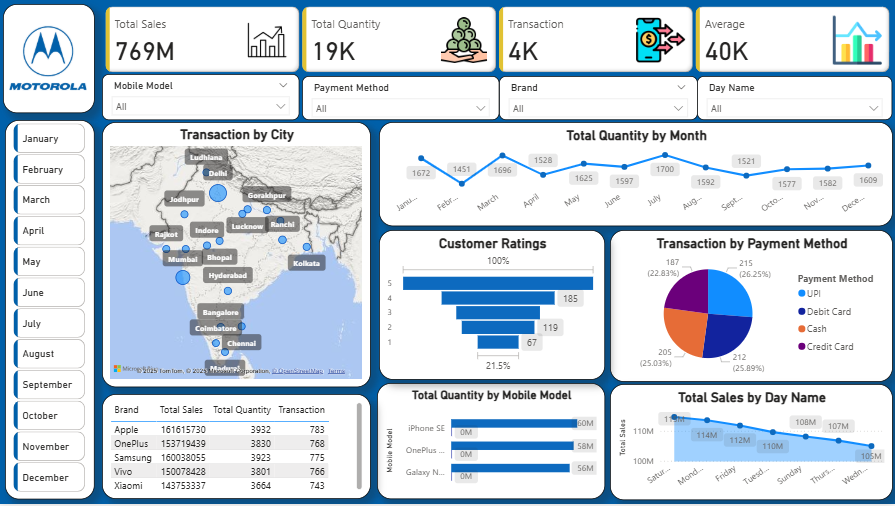

This screenshot's page, from the dashboard's own definition file:
{"tool":"powerbi","page":{"name":"Page 1","canvas":[1280,720],"ordinal":0},"visuals":[{"type":"shape","box":[5.5,5.5,130.8,155.5],"z":0},{"type":"image","box":[9.6,9.6,119.7,145.9],"z":1000},{"type":"shape","box":[8.3,172,128,542.3],"z":2000},{"type":"advancedSlicerVisual","fields":{"Values":["Day - 30 - Mobile Sales Data(Sh (2).Date.Variation.Date Hierarchy.Month"]},"box":[15.1,172,112.9,540.9],"z":3000},{"type":"cardVisual","fields":{"Data":["Sales Data.Total Sales","Sales Data.Total Quantity","Sales Data.Transaction","Sales Data.Average"]},"box":[147.3,4.1,1132.7,104.6],"z":4000},{"type":"map","fields":{"Category":["Sales Data.City"],"Size":["Sales Data.Transaction"]},"box":[147.1,174.3,384.3,378.6],"z":5000},{"type":"lineChart","fields":{"Category":["Sales Data.Date.Variation.Date Hierarchy.Month","Sales Data.Date.Variation.Date Hierarchy.Day"],"Y":["Sales Data.Total Quantity"]},"box":[542.9,174.3,734.3,148.6],"z":6000},{"type":"clusteredBarChart","title":"Total Quantity by Mobile Model","fields":{"Category":["Sales Data.Mobile Model"],"Y":["Sales Data.Total Sales","Sales Data.Total Quantity"]},"box":[540,547.1,325.7,165.7],"z":7000},{"type":"pieChart","fields":{"Category":["Sales Data.Payment Method"],"Y":["Sales Data.Transaction"]},"box":[872.9,328.6,404.3,217.1],"z":8000},{"type":"funnel","title":"Customer Ratings","fields":{"Category":["Sales Data.Customer Ratings"],"Y":["CountNonNull(Sales Data.Customer Ratings)"]},"box":[542.9,328.6,322.9,214.3],"z":9000},{"type":"areaChart","fields":{"Y":["Sales Data.Total Sales"],"Category":["Sales Data.Day Name"]},"box":[872.9,548.6,404.3,165.7],"z":10000},{"type":"tableEx","fields":{"Values":["Sales Data.Brand","Sales Data.Total Sales","Sales Data.Total Quantity","Sales Data.Transaction"]},"box":[147.1,562.9,384.3,150],"z":11000},{"type":"slicer","fields":{"Values":["Sales Data.Mobile Model"]},"box":[147.3,106,282.2,66.1],"z":12000},{"type":"slicer","fields":{"Values":["Sales Data.Payment Method"]},"box":[432.2,108.7,282.2,63.3],"z":13000},{"type":"slicer","fields":{"Values":["Sales Data.Brand"]},"box":[714.3,108.7,283.5,63.3],"z":14000},{"type":"slicer","fields":{"Values":["Sales Data.Day Name"]},"box":[997.8,108.7,279.4,63.3],"z":15000}]}

Visuals, with their boxes in screenshot pixels (x1, y1, x2, y2), scaled from the page's 1280x720 canvas onto the 895x506 screenshot:
shape: detection(4, 4, 95, 113)
image: detection(7, 7, 90, 109)
shape: detection(6, 121, 95, 502)
advancedSlicerVisual - Day - 30 - Mobile Sales Data(Sh (2).Date.Variation.Date Hierarchy.Month: detection(11, 121, 90, 501)
cardVisual - Sales Data.Total Sales x Sales Data.Total Quantity: detection(103, 3, 894, 76)
map - Sales Data.City x Sales Data.Transaction: detection(103, 122, 372, 389)
lineChart - Sales Data.Date.Variation.Date Hierarchy.Month x Sales Data.Date.Variation.Date Hierarchy.Day: detection(380, 122, 893, 227)
"Total Quantity by Mobile Model" clusteredBarChart: detection(378, 384, 605, 501)
pieChart - Sales Data.Payment Method x Sales Data.Transaction: detection(610, 231, 893, 384)
"Customer Ratings" funnel: detection(380, 231, 605, 382)
areaChart - Sales Data.Total Sales x Sales Data.Day Name: detection(610, 386, 893, 502)
tableEx - Sales Data.Brand x Sales Data.Total Sales: detection(103, 396, 372, 501)
slicer - Sales Data.Mobile Model: detection(103, 74, 300, 121)
slicer - Sales Data.Payment Method: detection(302, 76, 500, 121)
slicer - Sales Data.Brand: detection(499, 76, 698, 121)
slicer - Sales Data.Day Name: detection(698, 76, 893, 121)
